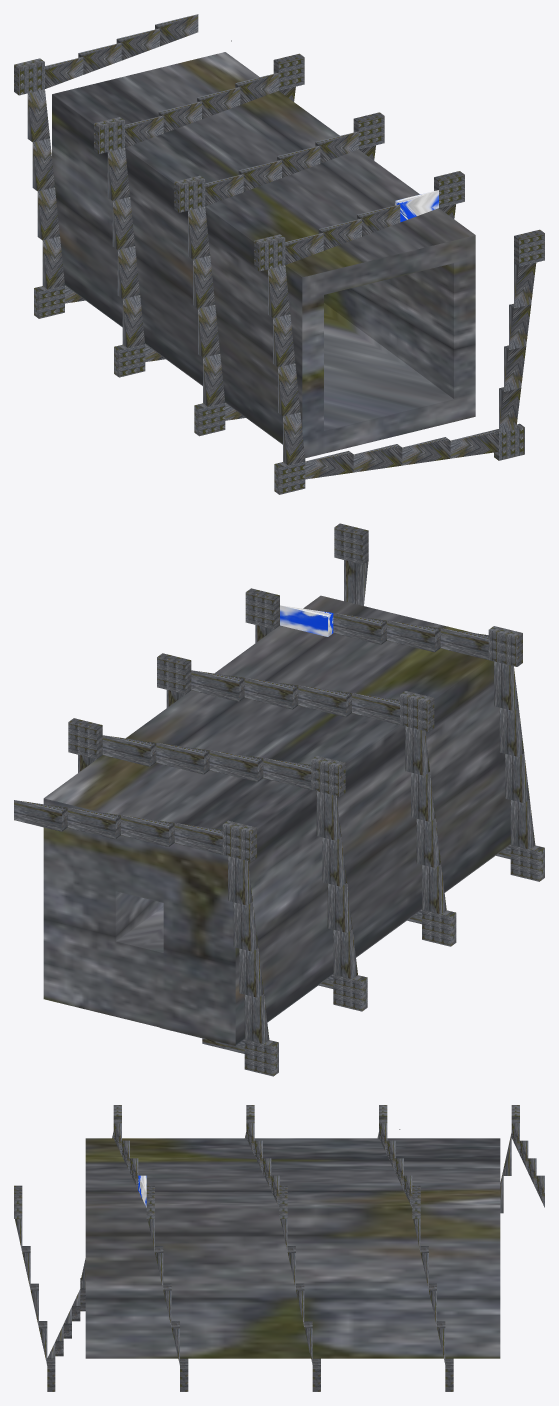
The model's file is payload1.glb.
3 views of the same model, one above another, from view 1: azimuth 30°, elevation 25°; view 2: azimuth 150°, elevation 25°; view 3: azimuth 270°, elevation 25° (orthographic). The views are drawn at different scales.
Visible parts, largest first — view 1: Cube.6451, Cube.6544, Cube.6545, Cube.6546, Cube.6543, Cube.6494, Cube.6491, Cube.6492, Cube.6493, Cube.6632, Cube.6631, Cube.6630 (+29 smaller); view 2: Cube.6451, Cube.6583, Cube.6530, Cube.6532, Cube.6478, Cube.6584, Cube.6635, Cube.6582, Cube.6531, Cube.6634, Cube.6636, Cube.6479 (+22 smaller); view 3: Cube.6451.
Boxes of the visible parts, x1=… form: Cube.6451: x1=52, y1=52, x2=475, y2=458; Cube.6544: x1=112, y1=197, x2=134, y2=249; Cube.6545: x1=117, y1=246, x2=139, y2=298; Cube.6546: x1=122, y1=295, x2=144, y2=347; Cube.6543: x1=107, y1=148, x2=129, y2=200; Cube.6494: x1=42, y1=236, x2=64, y2=289; Cube.6491: x1=27, y1=89, x2=49, y2=142; Cube.6492: x1=32, y1=138, x2=54, y2=191; Cube.6493: x1=37, y1=187, x2=59, y2=240; Cube.6632: x1=353, y1=444, x2=402, y2=472; Cube.6631: x1=402, y1=437, x2=450, y2=465; Cube.6630: x1=450, y1=430, x2=498, y2=458; Cube.6451: x1=43, y1=595, x2=510, y2=1045; Cube.6583: x1=244, y1=678, x2=298, y2=709; Cube.6530: x1=102, y1=735, x2=156, y2=766; Cube.6532: x1=209, y1=750, x2=263, y2=781; Cube.6478: x1=14, y1=800, x2=67, y2=831; Cube.6584: x1=298, y1=685, x2=351, y2=717; Cube.6635: x1=333, y1=613, x2=386, y2=644; Cube.6582: x1=191, y1=670, x2=244, y2=701; Cube.6531: x1=156, y1=743, x2=209, y2=774; Cube.6634: x1=280, y1=605, x2=333, y2=636; Cube.6636: x1=387, y1=620, x2=440, y2=652; Cube.6479: x1=67, y1=808, x2=120, y2=839; Cube.6451: x1=85, y1=1138, x2=500, y2=1358.
Bounding box in the file's own units: 520 × 612 × 1280.
Materials: 2 (2 with a texture image).
